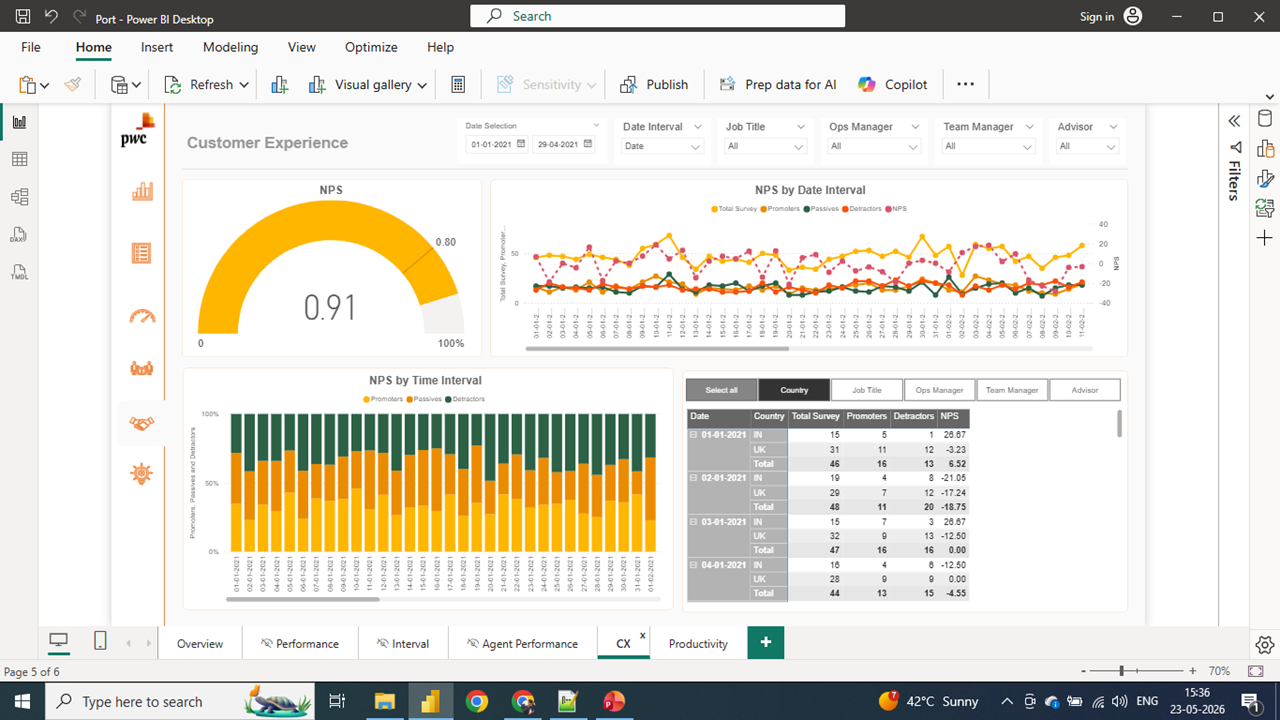

What the dashboard file says about the page in this screenshot:
{"tool":"powerbi","page":{"name":"CX","canvas":[1580,800],"ordinal":4},"visuals":[{"type":"gauge","title":"NPS","fields":{"MaxValue":["Measures (2).Maximum"],"MinValue":["Measures (2).Minimum"],"TargetValue":["Measures (2).Target"],"Y":["Measures (2).NPS"]},"box":[114.3,123.1,442.6,260.9],"z":0},{"type":"lineChart","title":"NPS by Date Interval","fields":{"Category":["Date Calendar.Date"],"Y":["Measures (2).Total Survey","Measures (2).Promoters","Measures (2).Passives","Measures (2).Detractors"],"Y2":["Measures (2).NPS"]},"box":[589.2,123.1,960,260.9],"z":1},{"type":"pivotTable","fields":{"Rows":["Date Calendar.Date","Emp.County"],"Values":["Measures (2).Total Survey","Measures (2).Promoters","Measures (2).Detractors","Measures (2).NPS"]},"box":[876.5,463.2,675.7,304.9],"z":2},{"type":"slicer","fields":{"Values":["_P_Agent._P_Agent"]},"box":[853,414.8,715.3,48.4],"z":3},{"type":"hundredPercentStackedColumnChart","title":"NPS by Time Interval","fields":{"Category":["Date Calendar.Date"],"Y":["Measures (2).Promoters","Measures (2).Passives","Measures (2).Detractors"]},"box":[114.3,414.8,731.4,353.2],"z":6},{"type":"textbox","box":[110.2,40.9,300,45.7],"z":7},{"type":"slicer","fields":{"Values":["_P_Date_Interval._P_Date_Interval"]},"box":[770.1,23.5,146.6,71.8],"z":8},{"type":"slicer","title":"Date Selection","fields":{"Values":["Date Calendar.Date"]},"box":[529.1,23.5,230.1,70.4],"z":9},{"type":"slicer","fields":{"Values":["Emp.Job Title"]},"box":[927.5,23.5,146.6,71.8],"z":10},{"type":"slicer","fields":{"Values":["Emp.Employee Name"]},"box":[1434.9,23.5,117.3,71.8],"z":11},{"type":"slicer","fields":{"Values":["Emp.Employee Name"]},"box":[1259.9,23.5,164.2,71.8],"z":12},{"type":"slicer","fields":{"Values":["Emp.Employee Name"]},"box":[1084.9,23.5,164.2,71.8],"z":13},{"type":"image","box":[1.3,11.3,78.3,58.7],"z":14},{"type":"pageNavigator","box":[0,95.3,85,520.3],"z":15}]}

Visuals, with their boxes on the page's 1580x800 design canvas (x1, y1, x2, y2). These are canvas units, not pixel positions in the 1280x720 screenshot, which may show the page scaled, cropped or inside an application window:
"NPS" gauge: bbox=(114, 123, 557, 384)
"NPS by Date Interval" lineChart: bbox=(589, 123, 1549, 384)
pivotTable - Date Calendar.Date x Emp.County: bbox=(876, 463, 1552, 768)
slicer - _P_Agent._P_Agent: bbox=(853, 415, 1568, 463)
"NPS by Time Interval" hundredPercentStackedColumnChart: bbox=(114, 415, 846, 768)
textbox: bbox=(110, 41, 410, 87)
slicer - _P_Date_Interval._P_Date_Interval: bbox=(770, 24, 917, 95)
"Date Selection" slicer: bbox=(529, 24, 759, 94)
slicer - Emp.Job Title: bbox=(928, 24, 1074, 95)
slicer - Emp.Employee Name: bbox=(1435, 24, 1552, 95)
slicer - Emp.Employee Name: bbox=(1260, 24, 1424, 95)
slicer - Emp.Employee Name: bbox=(1085, 24, 1249, 95)
image: bbox=(1, 11, 80, 70)
pageNavigator: bbox=(0, 95, 85, 616)
